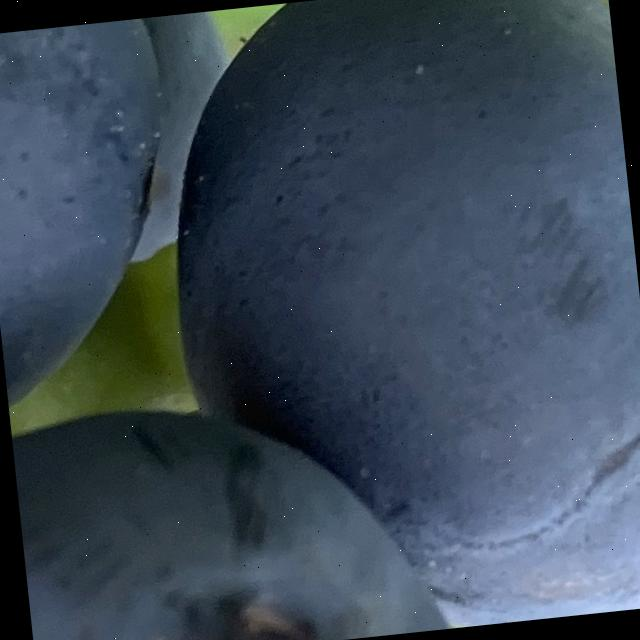Blueberries: (149, 0, 640, 640), (9, 375, 472, 640)
